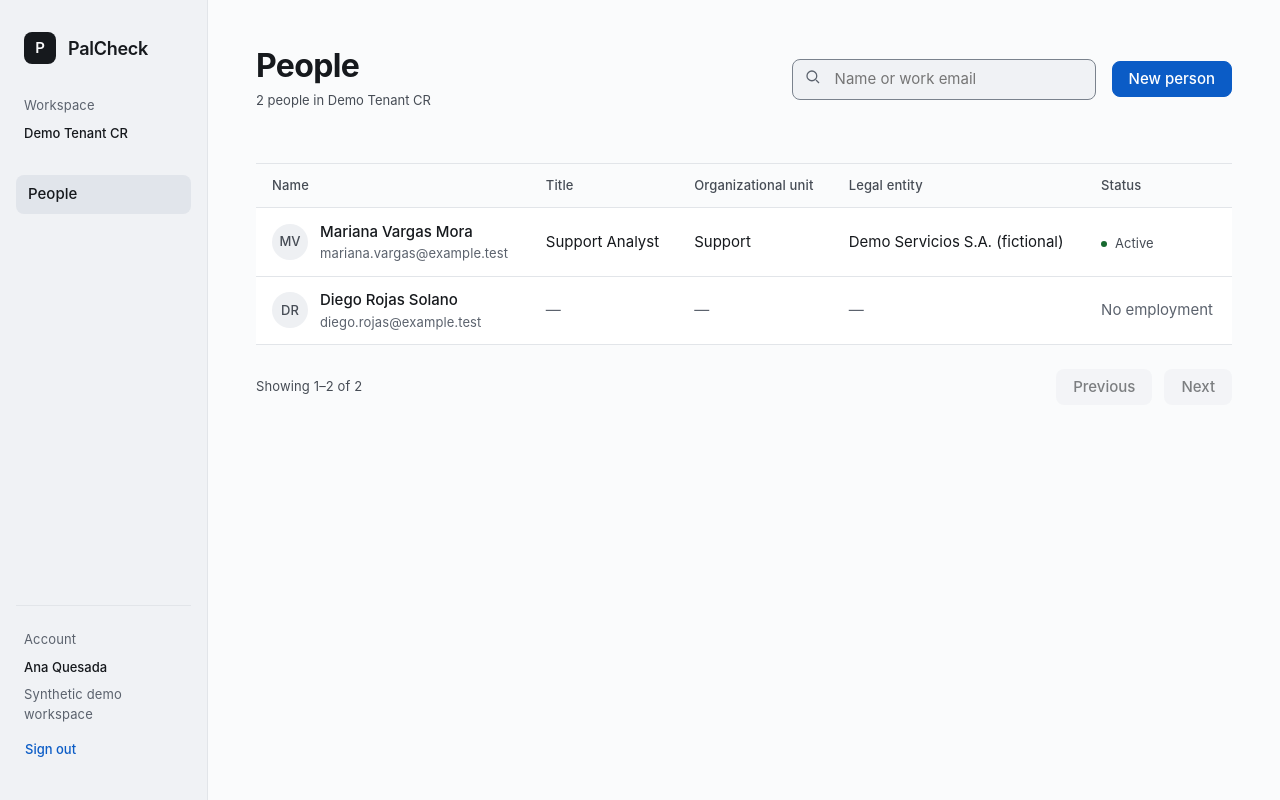
People list › searches after typing pauses and shows a specific message when nothing matches
Check: the table is shown, box left=256, top=164, right=1232, bottom=344
In the search field named "Search people": (944, 79) left=792, top=59, right=1096, bottom=100, type "zzz"
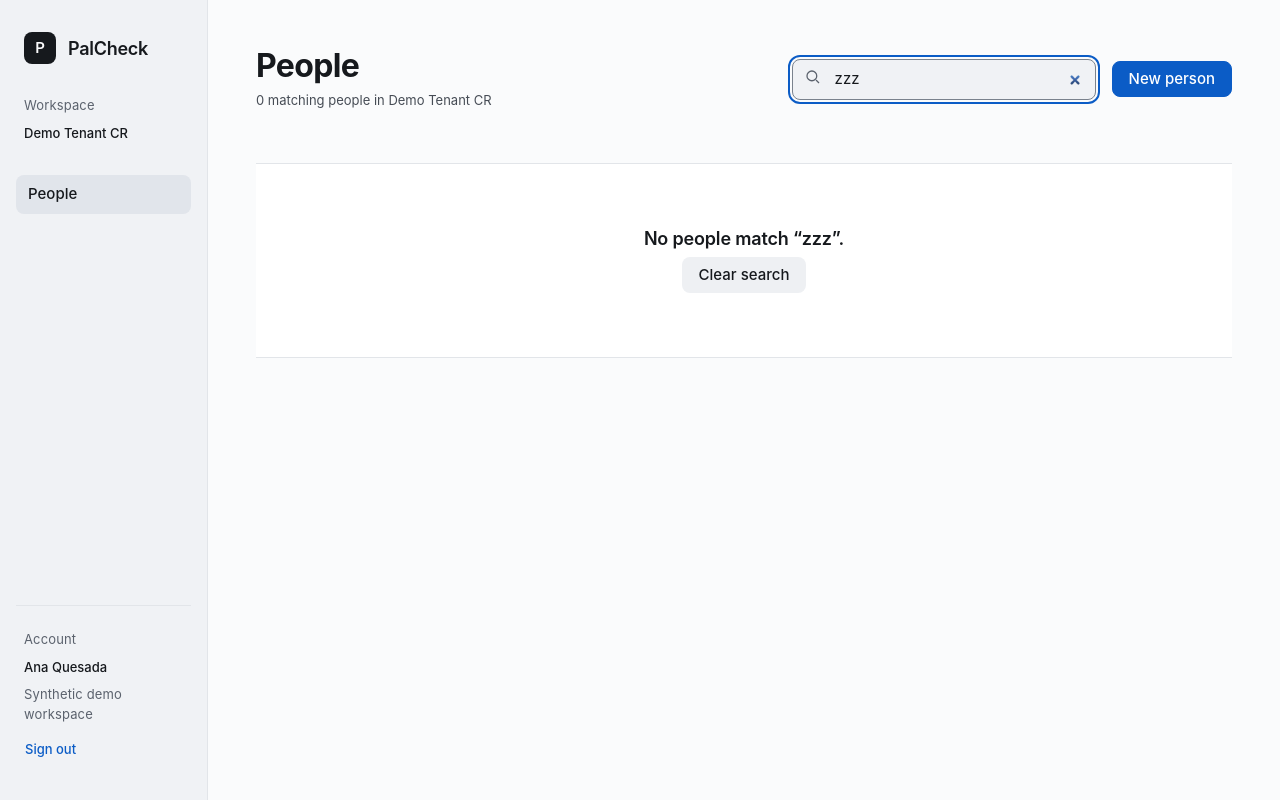
Check: the heading "No people match “zzz”." is shown, box left=644, top=228, right=844, bottom=249
